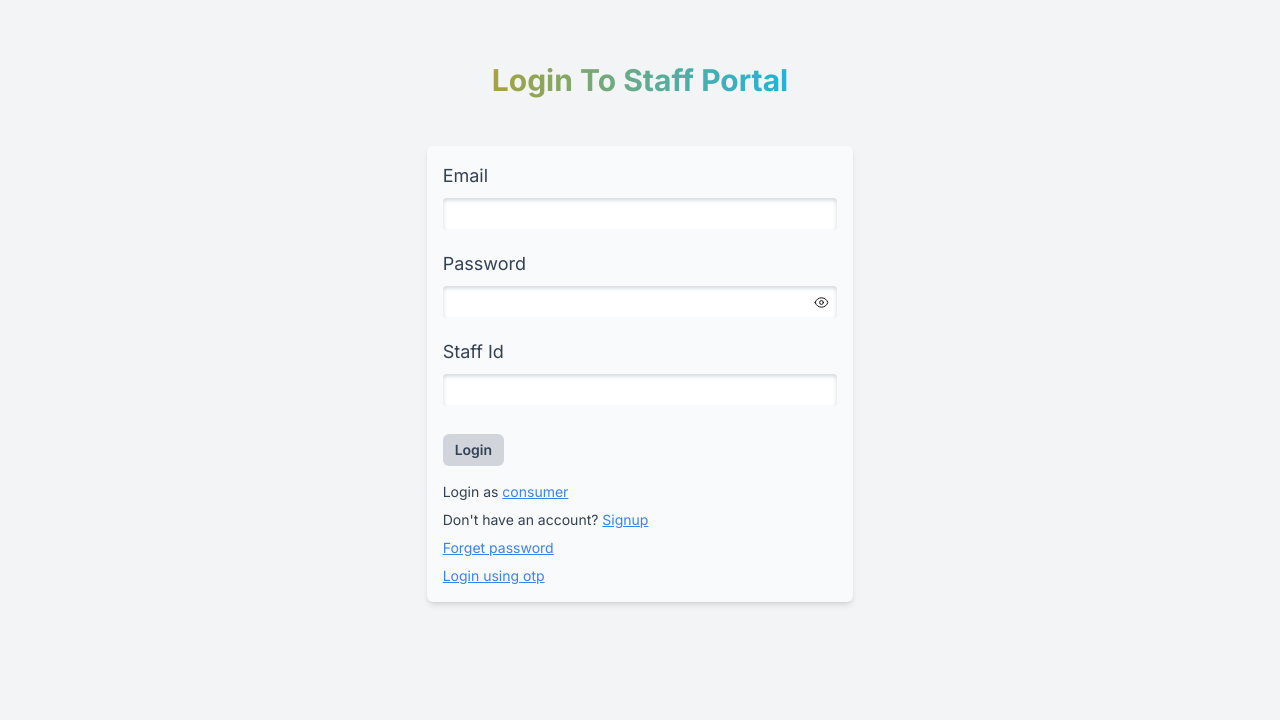
Scenario: login page › Shows login title, form, button and external links for staff
Expected: the heading "Login To Staff Portal" is shown, [427,54,853,106]
Expected: the password field labelled "Password" is shown, [443,286,837,318]
Type "test@example.com" into the field labelled "Email" at [640, 214], box [443,198,837,230]
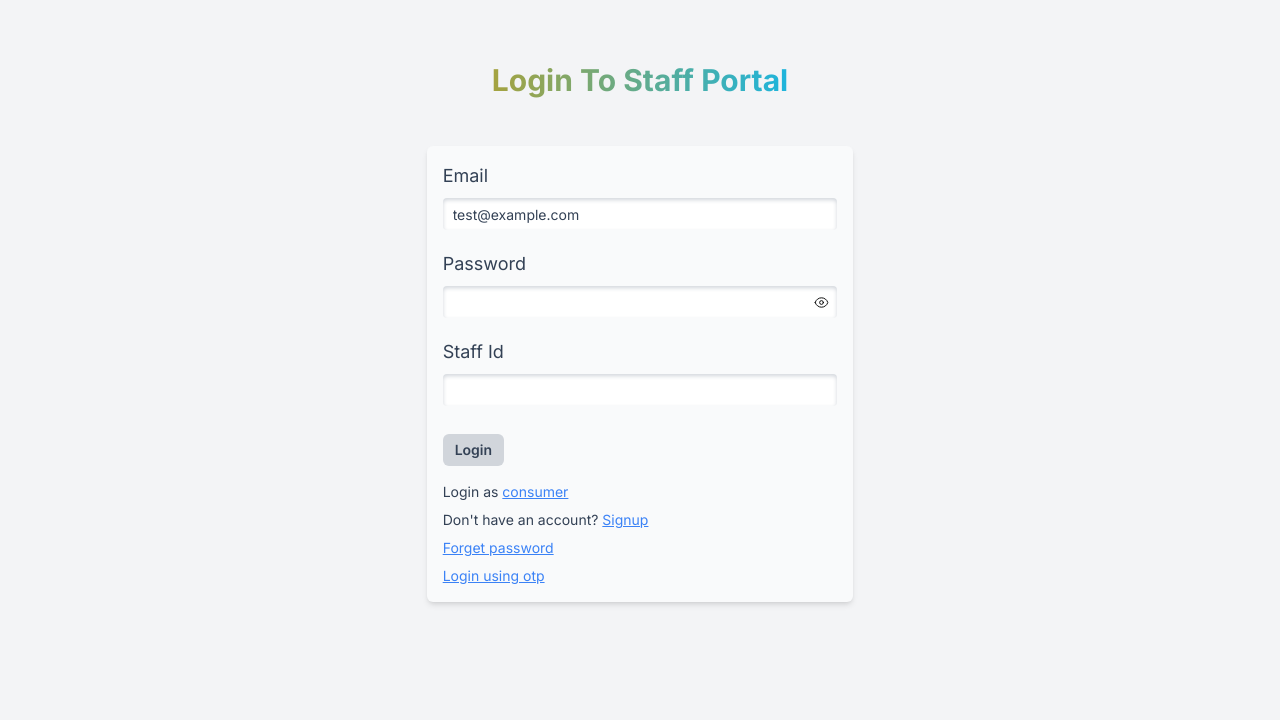
Type "password123" into the password field labelled "Password" at [640, 302], box [443,286,837,318]
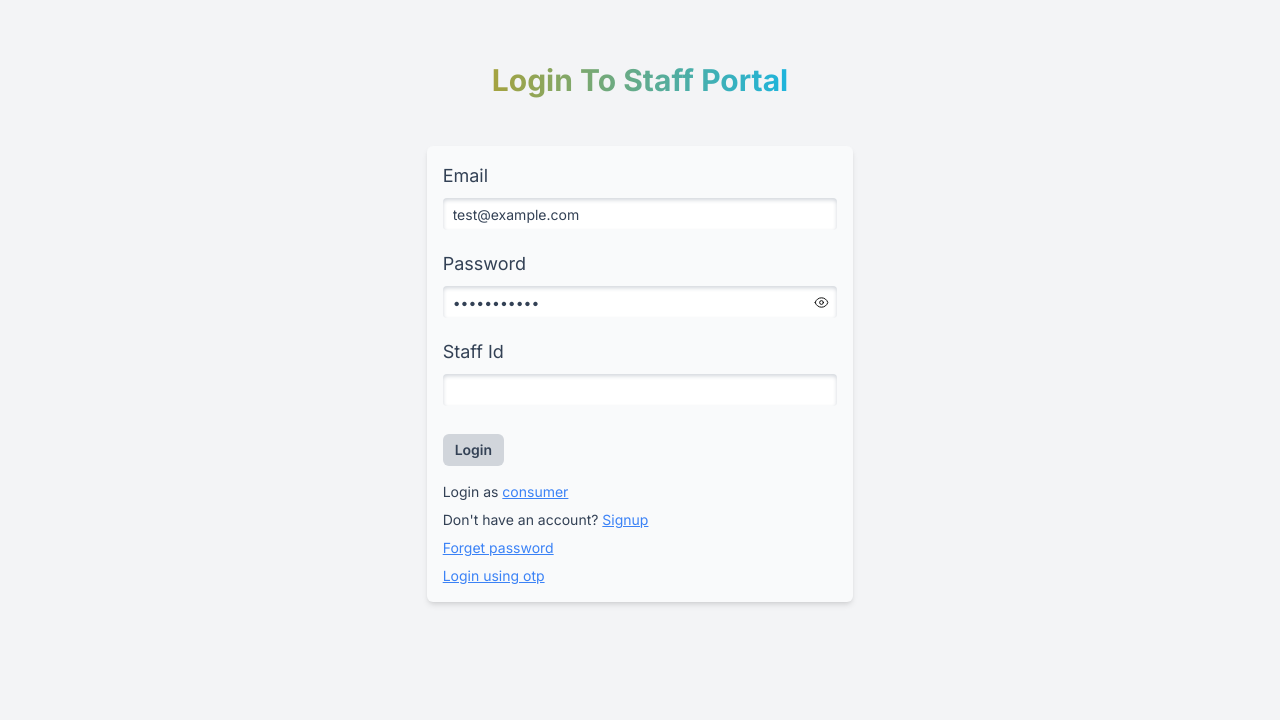
Type "staff123" into the field labelled "Staff Id" at [640, 390], box [443,374,837,406]
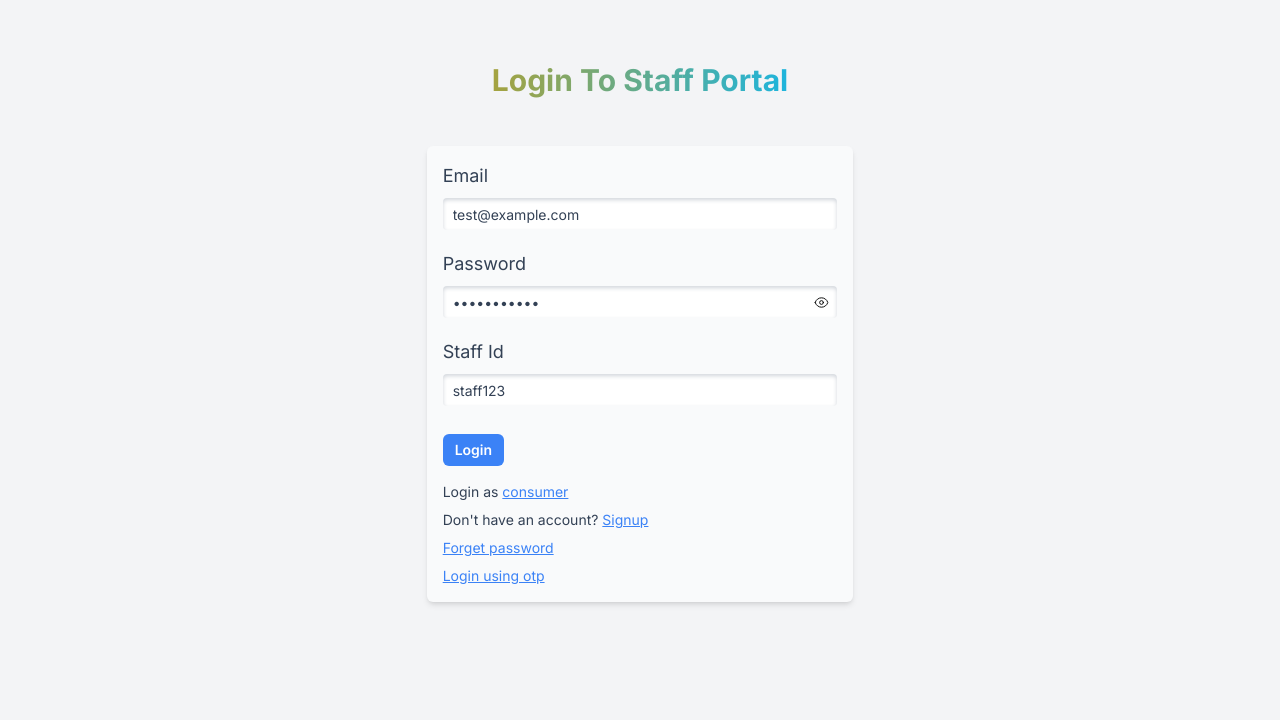
Click the button "Login" at [473, 450], box [443,434,504,466]
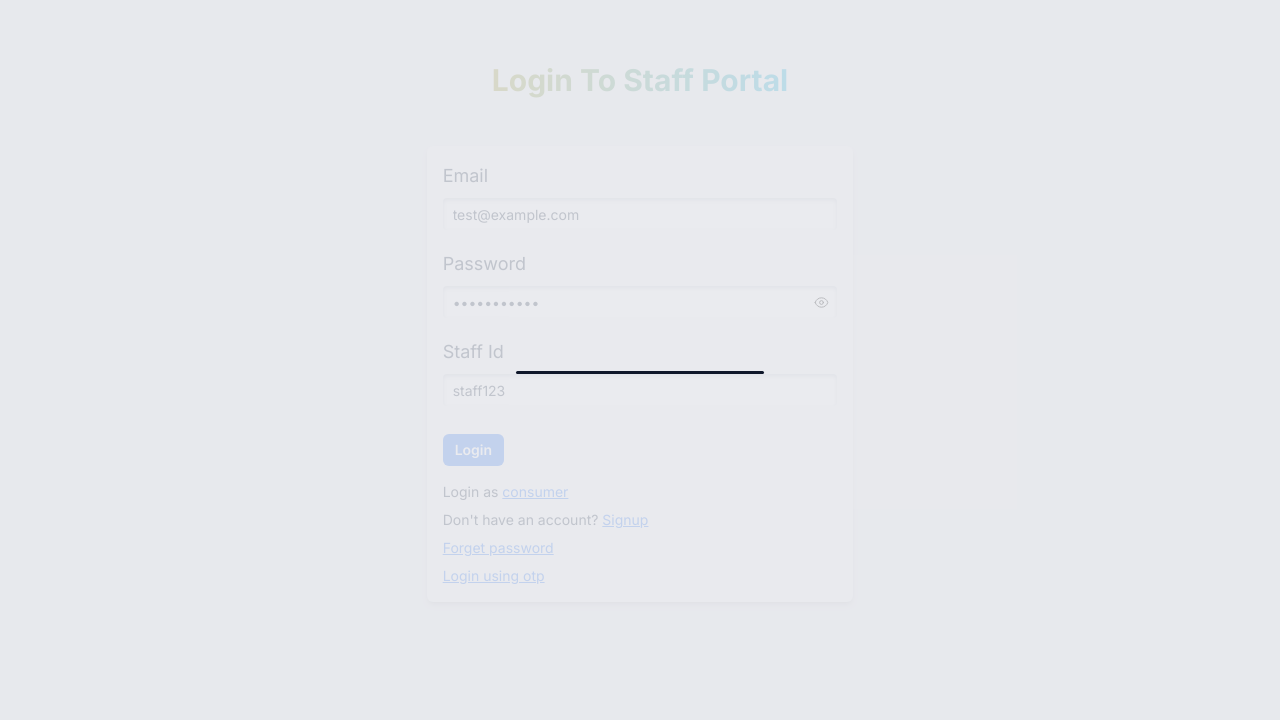
Now the element with test id "loadingText" is shown, box [516,346,764,374]
